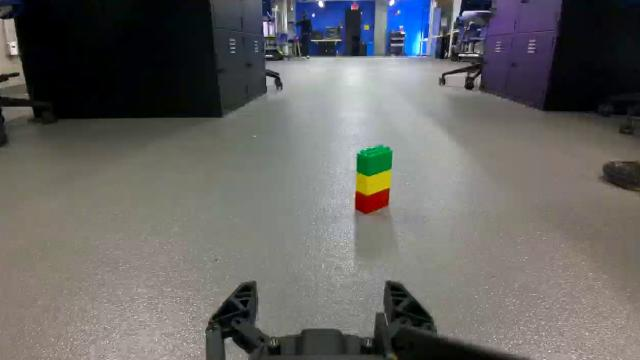lego: (357, 143, 394, 212)
